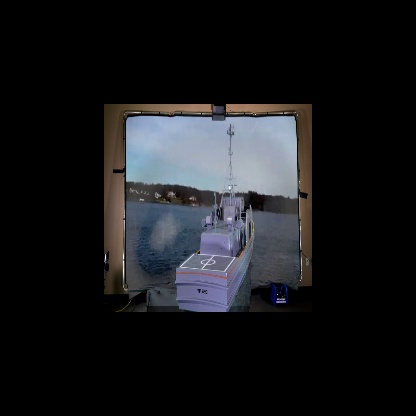YP689: (173, 125, 257, 312)
